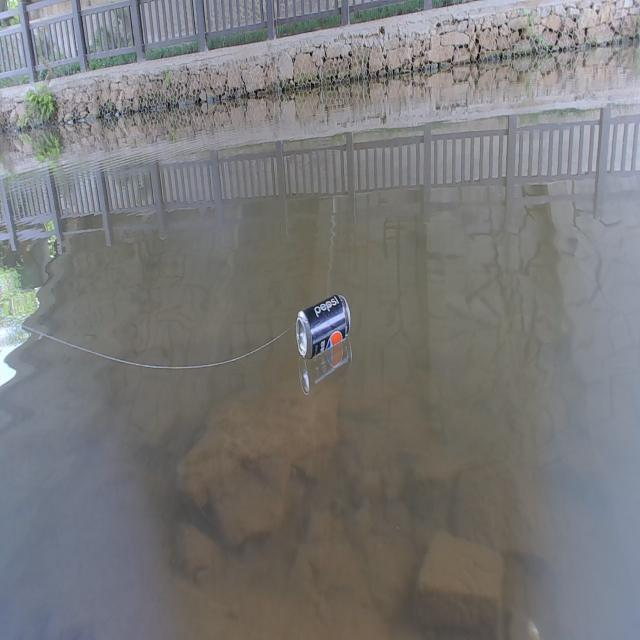Can: (295, 290, 352, 360)
